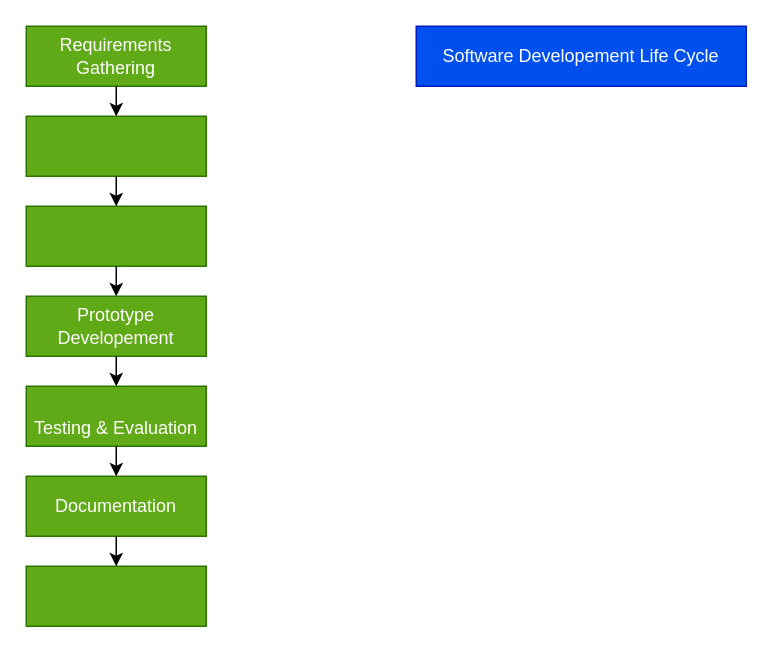
Image size: 773x653. Some labels were removed from this diagram. Each missing label, with the centre of its shape:
Deployment: the point at 115,595
System Analysis: the point at 115,145
System Design: the point at 115,235
